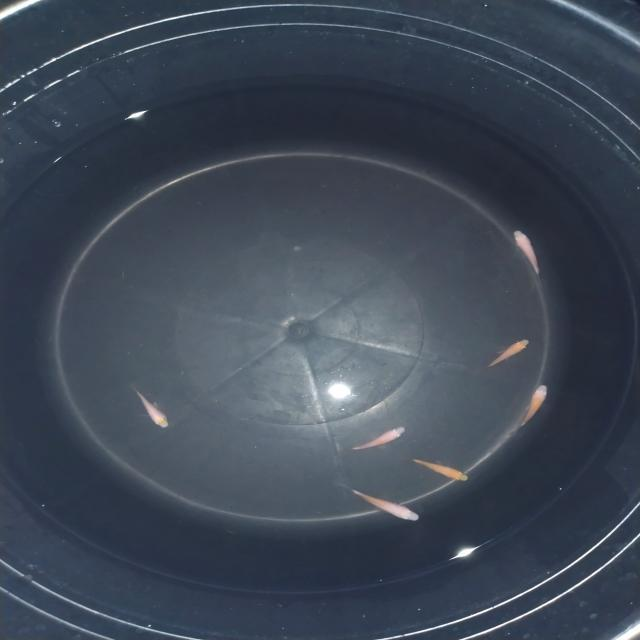nila: (340, 482, 422, 522), (126, 384, 173, 429), (474, 338, 532, 374), (404, 454, 472, 484), (343, 423, 408, 454), (512, 382, 550, 434), (511, 228, 545, 278)
